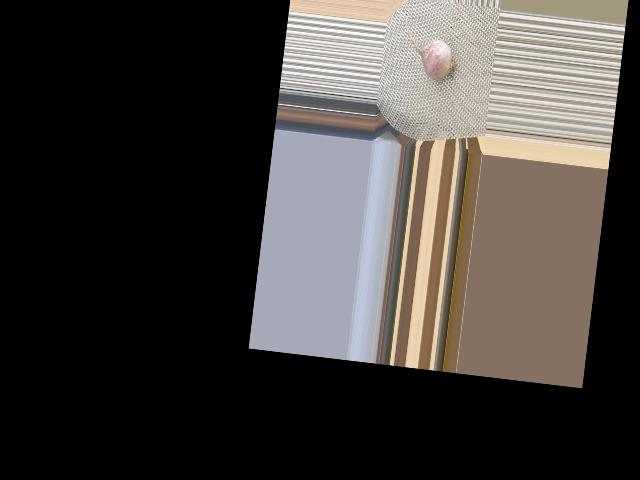beet: (399, 18, 461, 82)
